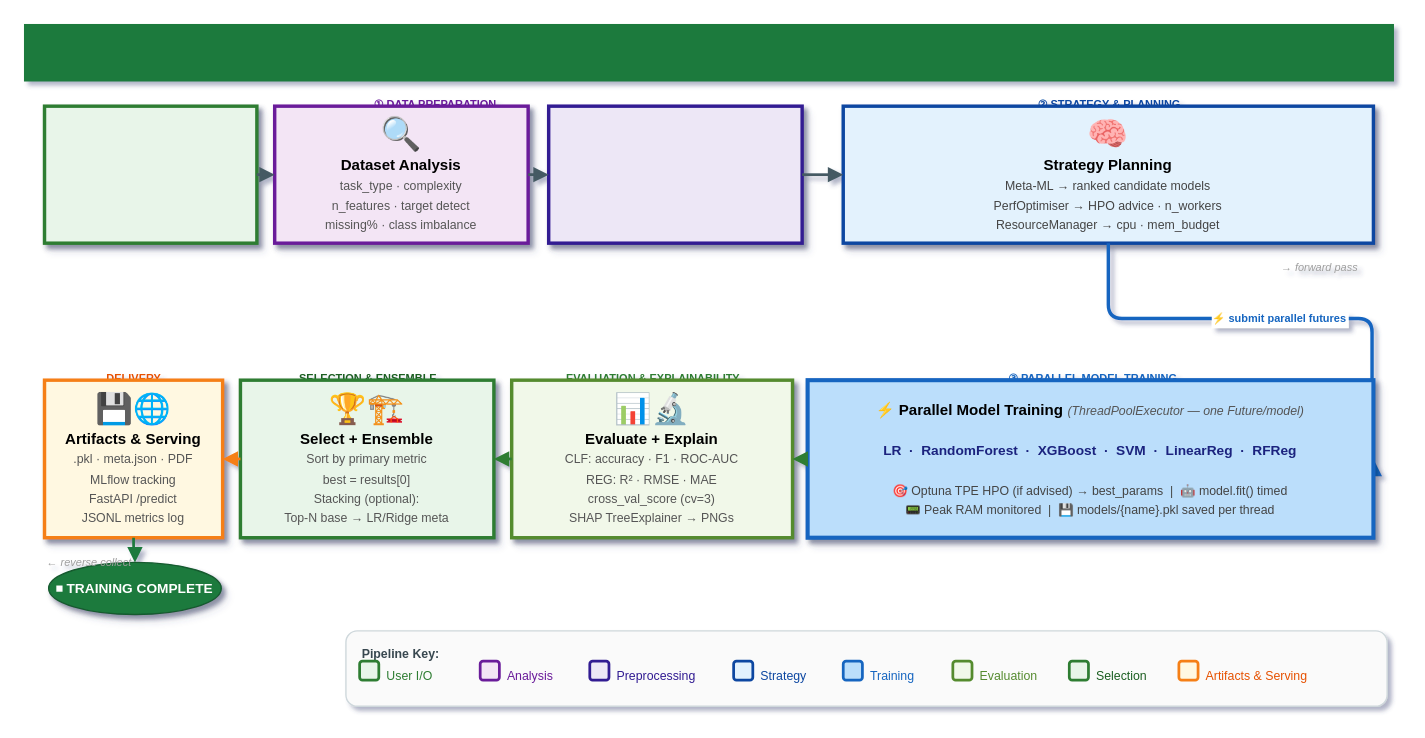
Some shapes in this 1425 by 738 pixel diagram are drawn without their labels. The shapes that lost their labels are listed below. From the top down, each one's centre as x and y in pixels, then its label:
[708,52]: ☁️ CloudAutoML — ML Pipeline
[151,176]: 👤 User Input CSV via Streamlit UI or CLI (main.py)
[676,176]: 🔀 Preprocessing StandardScaler + OHE LabelEncoder (clf) 80/20 train-test split
